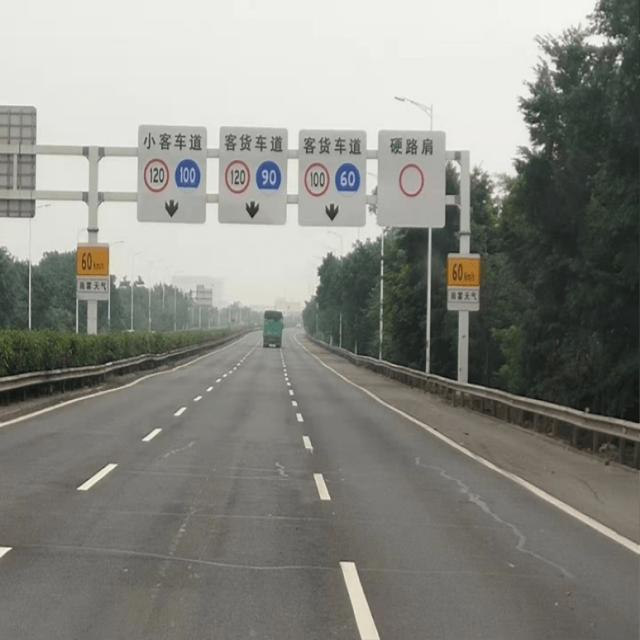speed limit 100: (174, 159, 200, 194), (305, 164, 329, 198)
speed limit 120: (143, 158, 169, 193), (224, 161, 250, 193)
speed limit 60: (334, 163, 361, 200)
speed limit 90: (255, 159, 282, 198)
